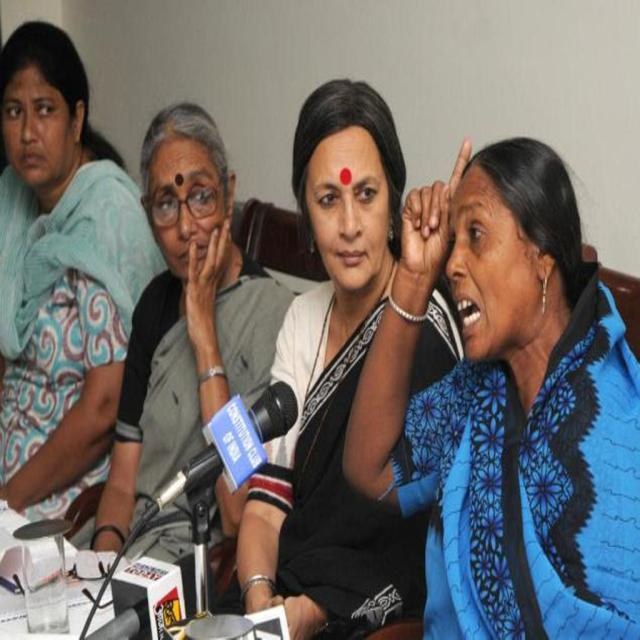Face: (296, 113, 395, 294), (448, 178, 532, 370), (135, 133, 239, 278), (1, 60, 77, 202)
